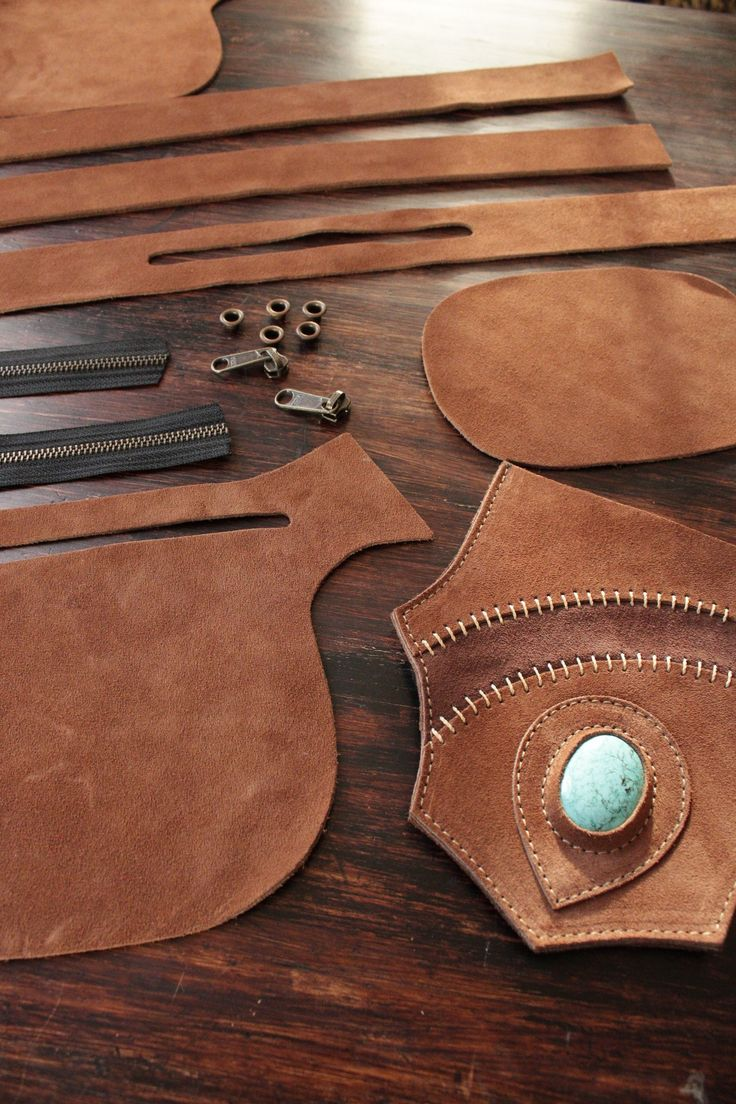cuero: (1, 1, 734, 959)
